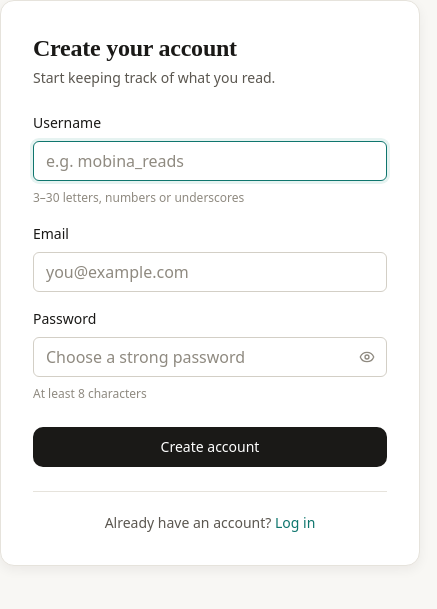
Test case: RegisterPage › validates username, email and password before submitting
Step 1. Type "a!" into the field labelled "Username" → [210, 161], box [33,141,387,181]
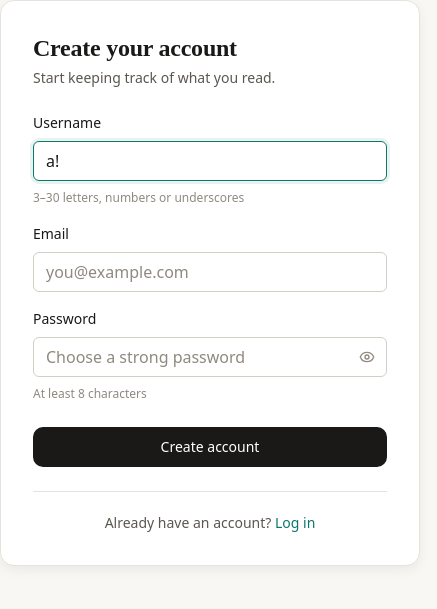
Step 2. Type "not-an-email" into the field labelled "Email" → [210, 272], box [33,252,387,292]
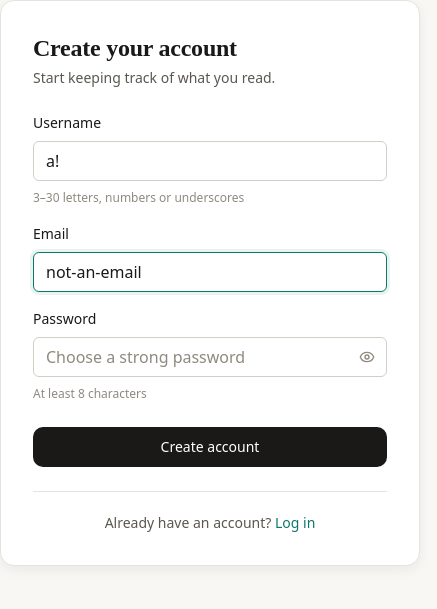
Step 3. Type "short" into the password field labelled "Password" → [210, 357], box [33,337,387,377]
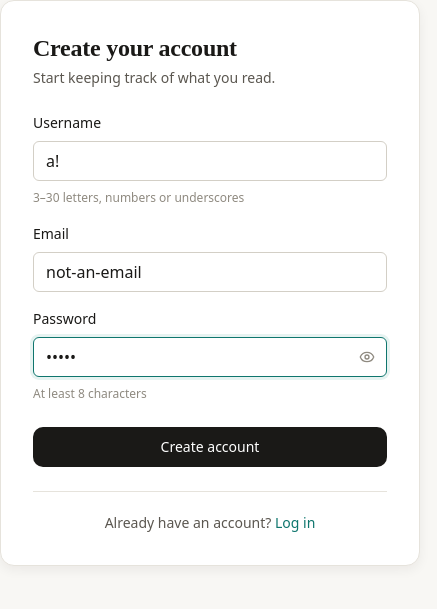
Step 4. Click the button "Create account" → [210, 447], box [33,427,387,467]
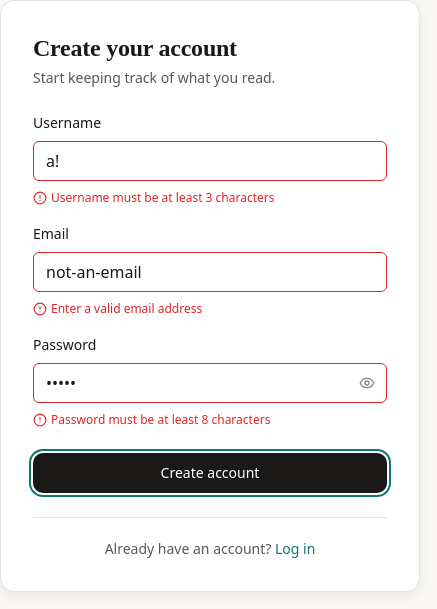
Check: the text "Username must be at least 3 characters" is shown, box [33,189,274,207]
Check: the text "Enter a valid email address" is shown, box [33,300,202,318]
Check: the text "Password must be at least 8 characters" is shown, box [33,411,270,429]
